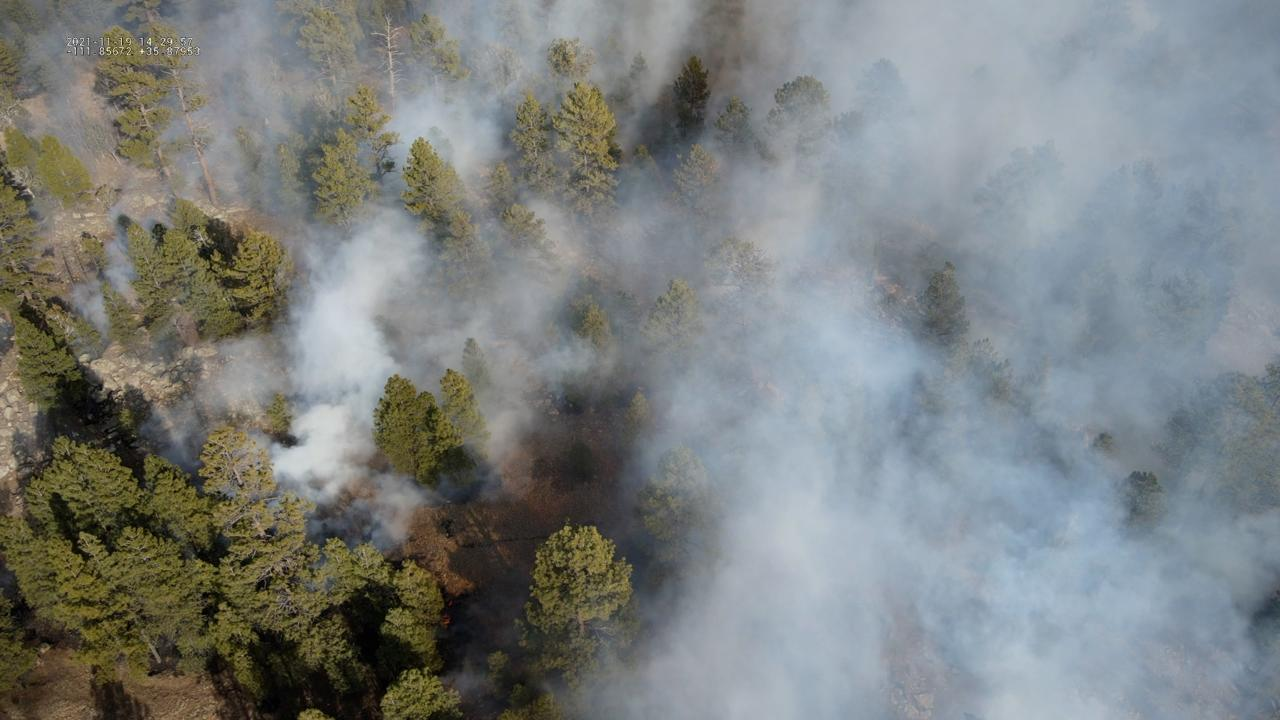fire: (440, 612, 452, 628), (447, 599, 455, 608)
smoke: (0, 0, 1280, 720)
